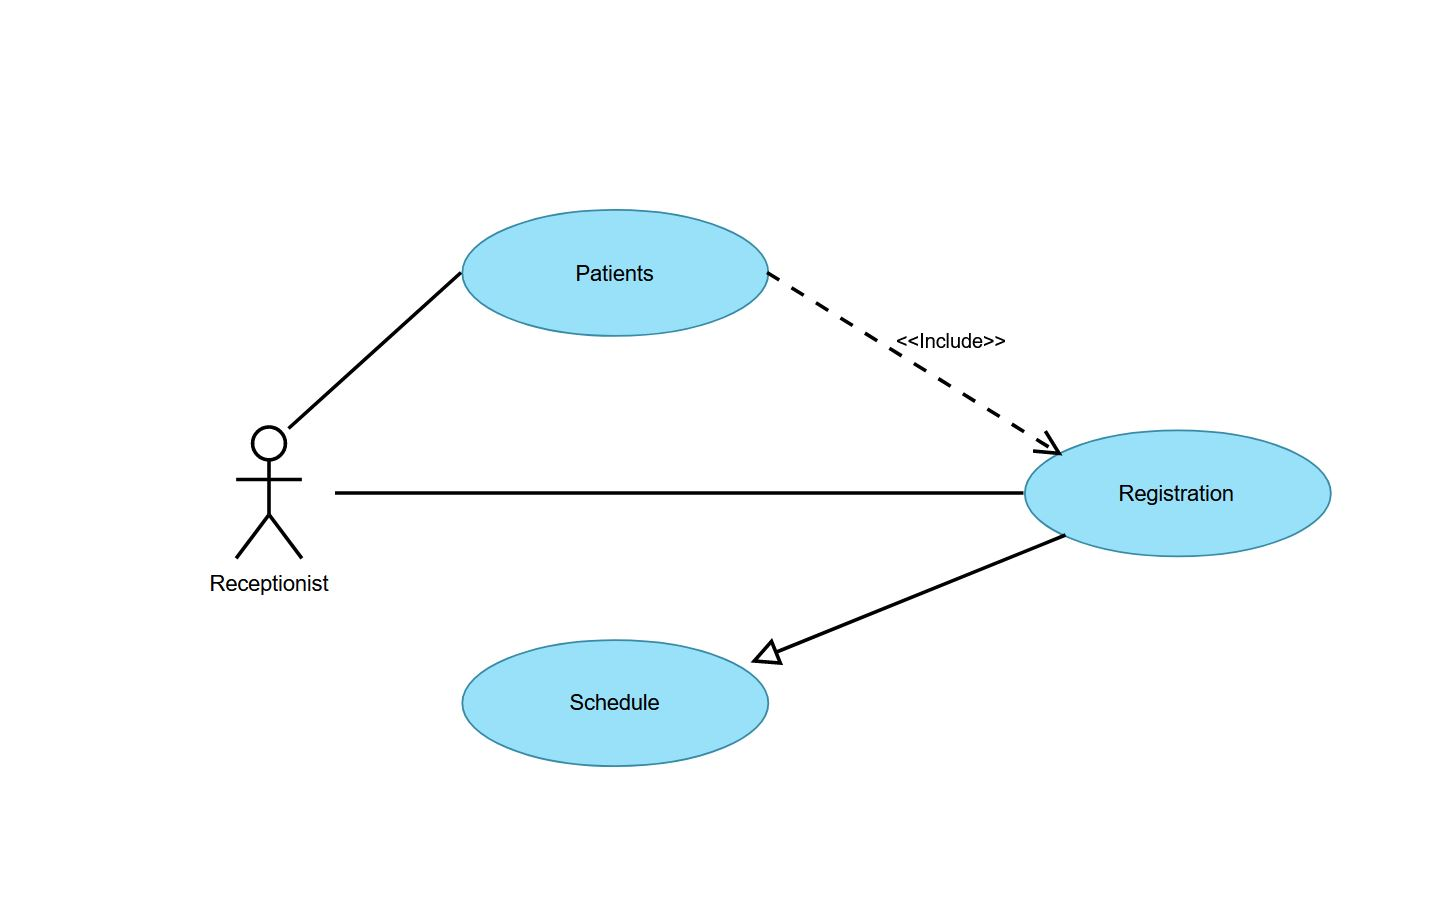actor: (226, 423, 309, 562)
association: (768, 270, 1063, 458), (749, 531, 1065, 668), (285, 266, 465, 430), (332, 477, 1023, 503)
text: (557, 253, 663, 296), (204, 568, 335, 601), (1115, 479, 1238, 512), (886, 324, 1014, 353), (565, 683, 661, 718)
use_case: (459, 638, 768, 771), (1022, 426, 1332, 559), (459, 207, 768, 337)
